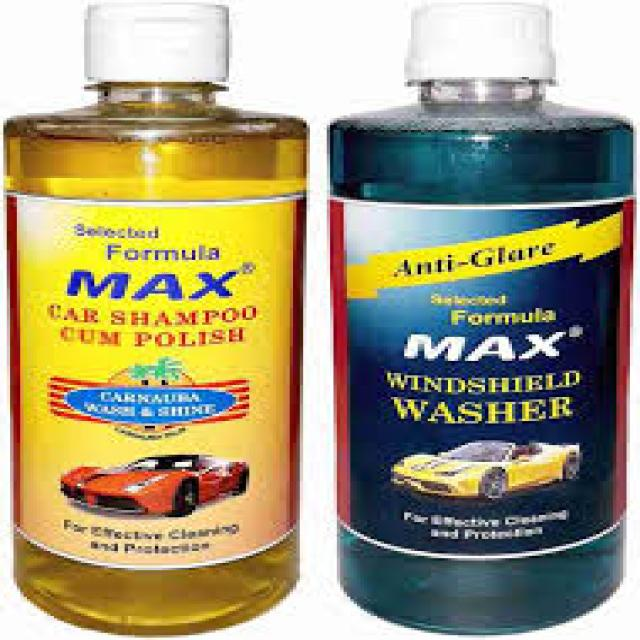winwinshield_washer: (0, 0, 317, 640), (330, 0, 640, 640)
